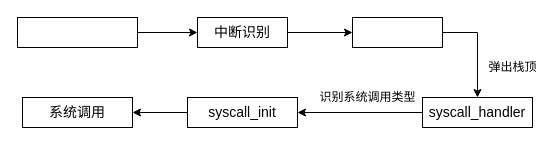
Image size: 560x145. Some labels were removed from this diagram. The shapes that lost their labels are listed below. From the top down, each one's centre as x and y in pixels, then its label:
At [77,32]: "用户操作产生中断".
At [397,32]: "参数入栈".
